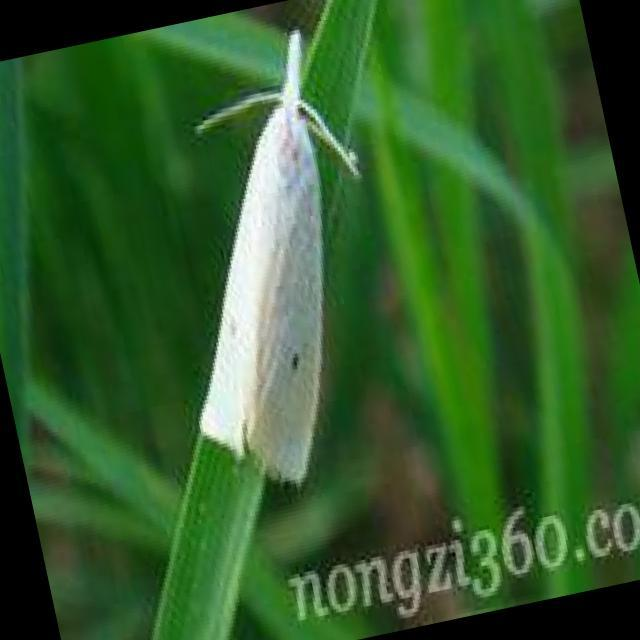stem borer: (195, 30, 358, 482)
